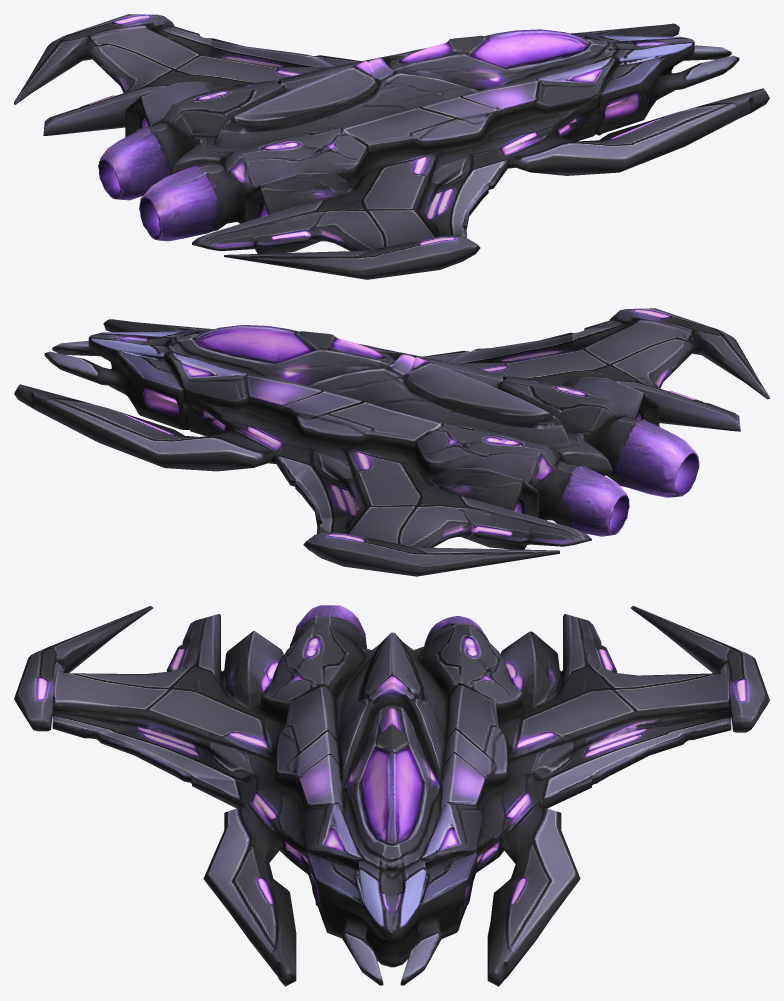
File: enemy_model_01.glb
3 views of the same model, one above another, from view 1: azimuth 30°, elevation 25°; view 2: azimuth 150°, elevation 25°; view 3: azimuth 270°, elevation 25° (orthographic). The views are drawn at different scales.
Visible parts, largest first — view 1: tripo_node_0476edc1-5af1-4032-b14e-c1e7096b58a3; view 2: tripo_node_0476edc1-5af1-4032-b14e-c1e7096b58a3; view 3: tripo_node_0476edc1-5af1-4032-b14e-c1e7096b58a3.
Part boxes in pixels (left/top/right/bottom): tripo_node_0476edc1-5af1-4032-b14e-c1e7096b58a3: left=14, top=14, right=769, bottom=279; tripo_node_0476edc1-5af1-4032-b14e-c1e7096b58a3: left=14, top=308, right=769, bottom=576; tripo_node_0476edc1-5af1-4032-b14e-c1e7096b58a3: left=14, top=605, right=769, bottom=986.
Bounding box in the file's own units: 6.32 × 1.2 × 5.83.
1 material, 1 textured.
